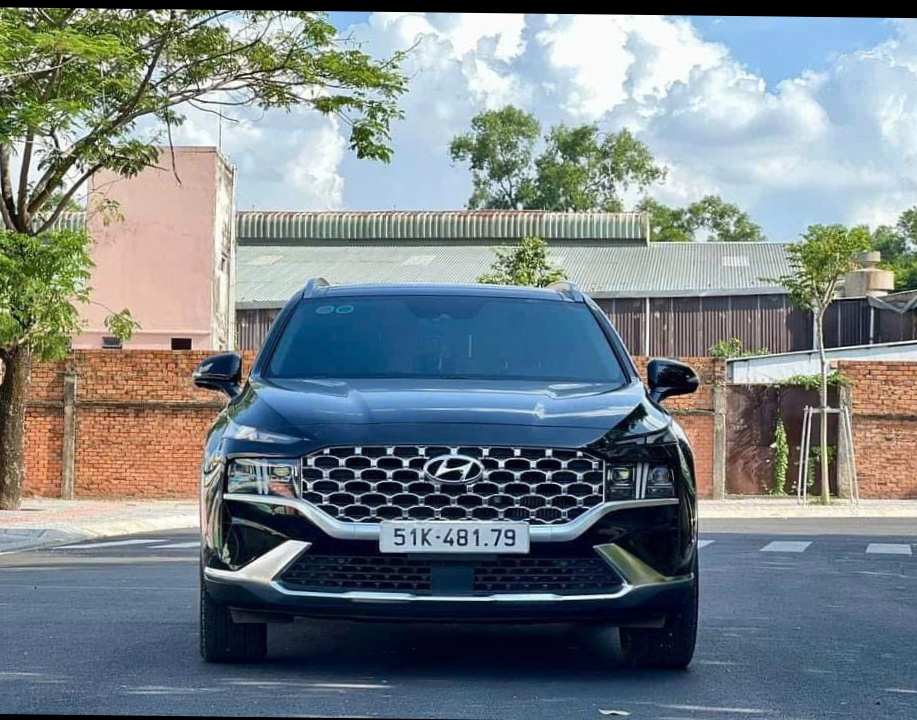Bien-so: (387, 506, 544, 543)
